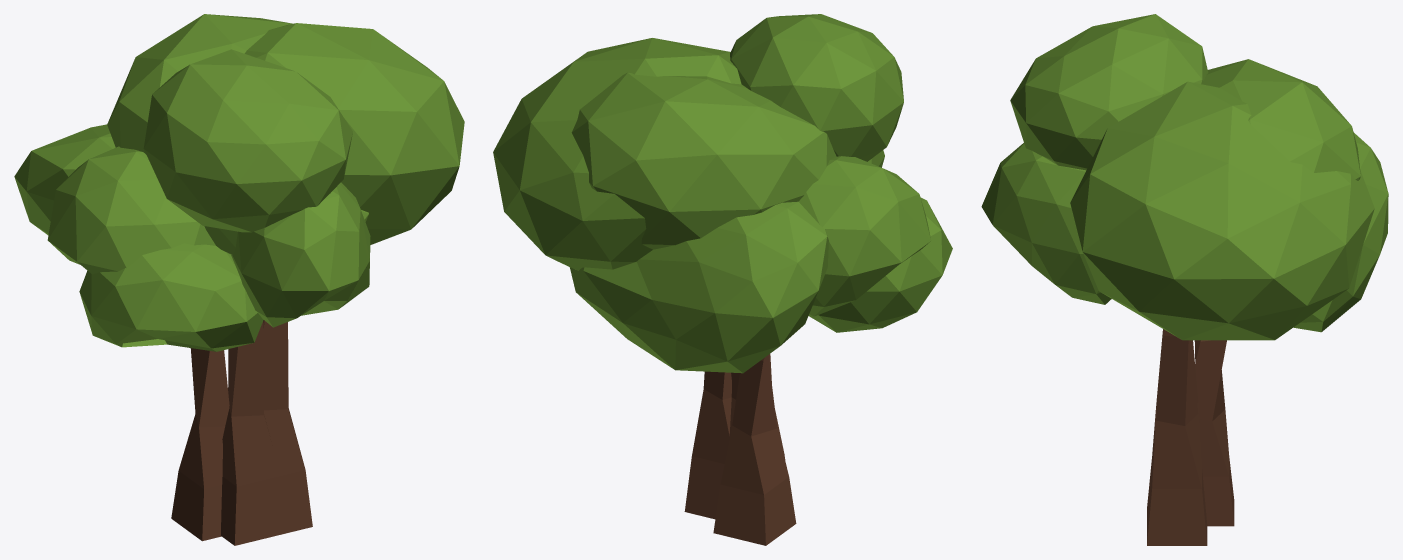
File: Trees.fbx
3 renders of one model, left to right at view 1: azimuth 30°, elevation 25°; view 2: azimuth 150°, elevation 25°; view 3: azimuth 270°, elevation 25°, orthographic. The views are drawn at different scales.
Visible parts, largest first — view 1: Tree2, Tree3, Tree1; view 2: Tree2, Tree3, Tree1; view 3: Tree2, Tree1, Tree3.
Part boxes in pixels (x1,y1,x2,y2): Tree2: (47,23,464,545); Tree3: (14,124,368,541); Tree1: (107,14,370,532); Tree2: (493,14,931,459); Tree3: (569,197,952,545); Tree1: (571,72,884,519); Tree2: (1010,14,1374,531); Tree1: (981,59,1360,545); Tree3: (1194,132,1388,526).
Size of the model in its own units: 3.91 by 4.67 by 3.59.
